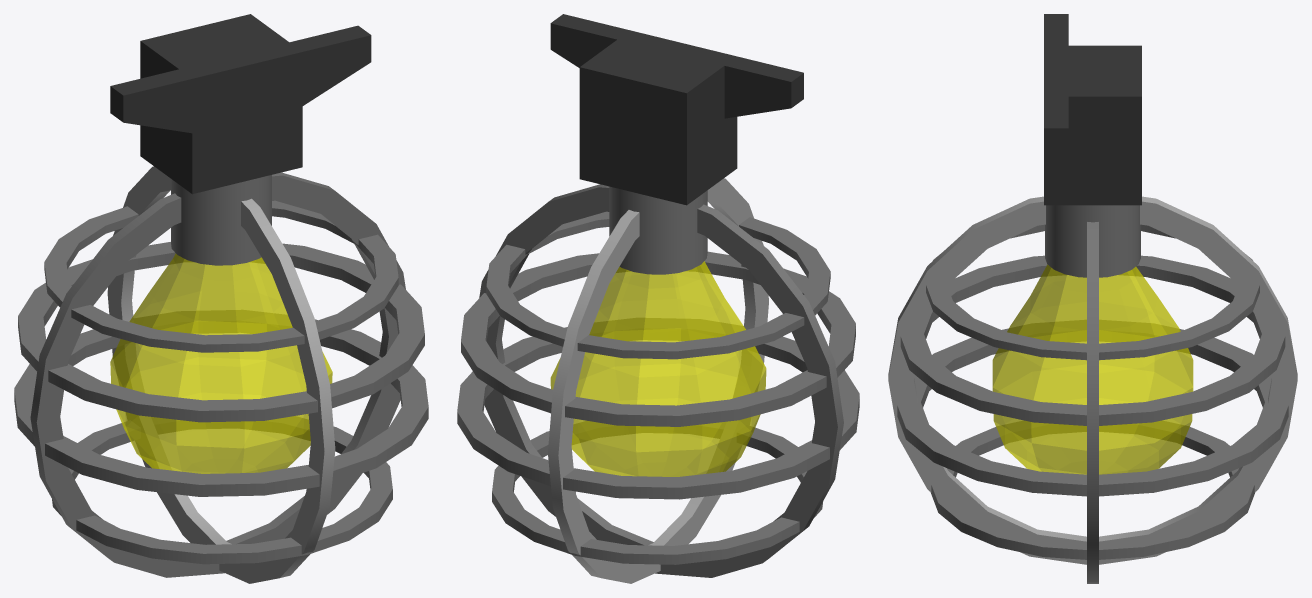
The model's file is wall_light.fbx.
3 renders of one model, left to right at view 1: azimuth 30°, elevation 25°; view 2: azimuth 150°, elevation 25°; view 3: azimuth 270°, elevation 25°, orthographic. The views are drawn at different scales.
Visible parts, largest first — view 1: pCube1, pSphere1, pPipe7, pPipe3, pPipe6, pPipe2, pPipe5, pPipe4, pPipe1; view 2: pCube1, pSphere1, pPipe7, pPipe3, pPipe6, pPipe2, pPipe5, pPipe4, pPipe1; view 3: pSphere1, pPipe6, pCube1, pPipe3, pPipe2, pPipe4, pPipe5, pPipe1, pPipe7.
Boxes of the visible parts, x1,y1,x2,y2 form: pCube1: (110,14,371,194); pSphere1: (110,253,332,473); pPipe7: (30,172,405,577); pPipe3: (14,310,428,496); pPipe6: (107,166,335,583); pPipe2: (18,242,424,422); pPipe5: (44,200,398,352); pPipe4: (52,416,392,564); pPipe1: (171,175,271,265); pCube1: (550,14,803,205); pSphere1: (550,261,766,476); pPipe7: (479,184,843,577); pPipe3: (457,318,859,499); pPipe6: (548,178,768,583); pPipe2: (461,251,855,426); pPipe5: (486,211,830,359); pPipe4: (492,421,822,564); pPipe1: (609,186,707,274); pSphere1: (992,264,1193,474); pPipe6: (888,196,1297,564); pCube1: (1044,14,1141,205); pPipe3: (897,320,1288,496); pPipe2: (900,255,1285,425); pPipe4: (930,421,1255,559); pPipe5: (926,224,1259,360); pPipe1: (1045,205,1140,277); pPipe7: (1087,222,1098,583).
Bounding box in the file's own units: 3.41 × 4.55 × 3.41.
